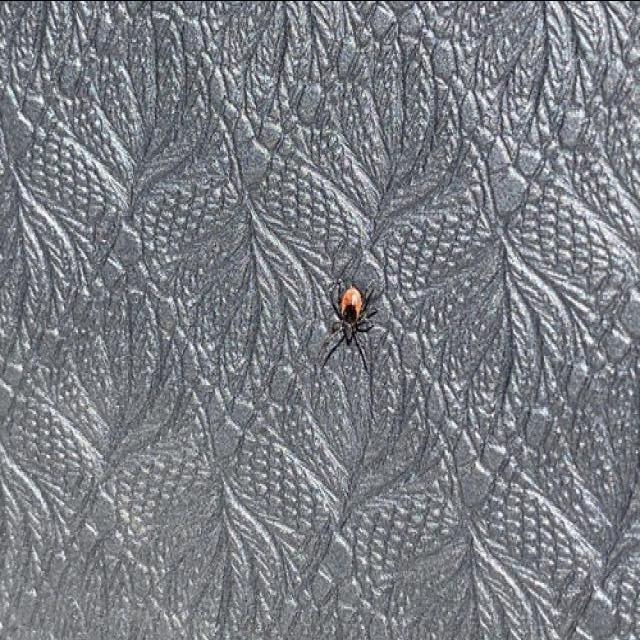Ixodes Ricinus-F: (312, 253, 394, 386)
